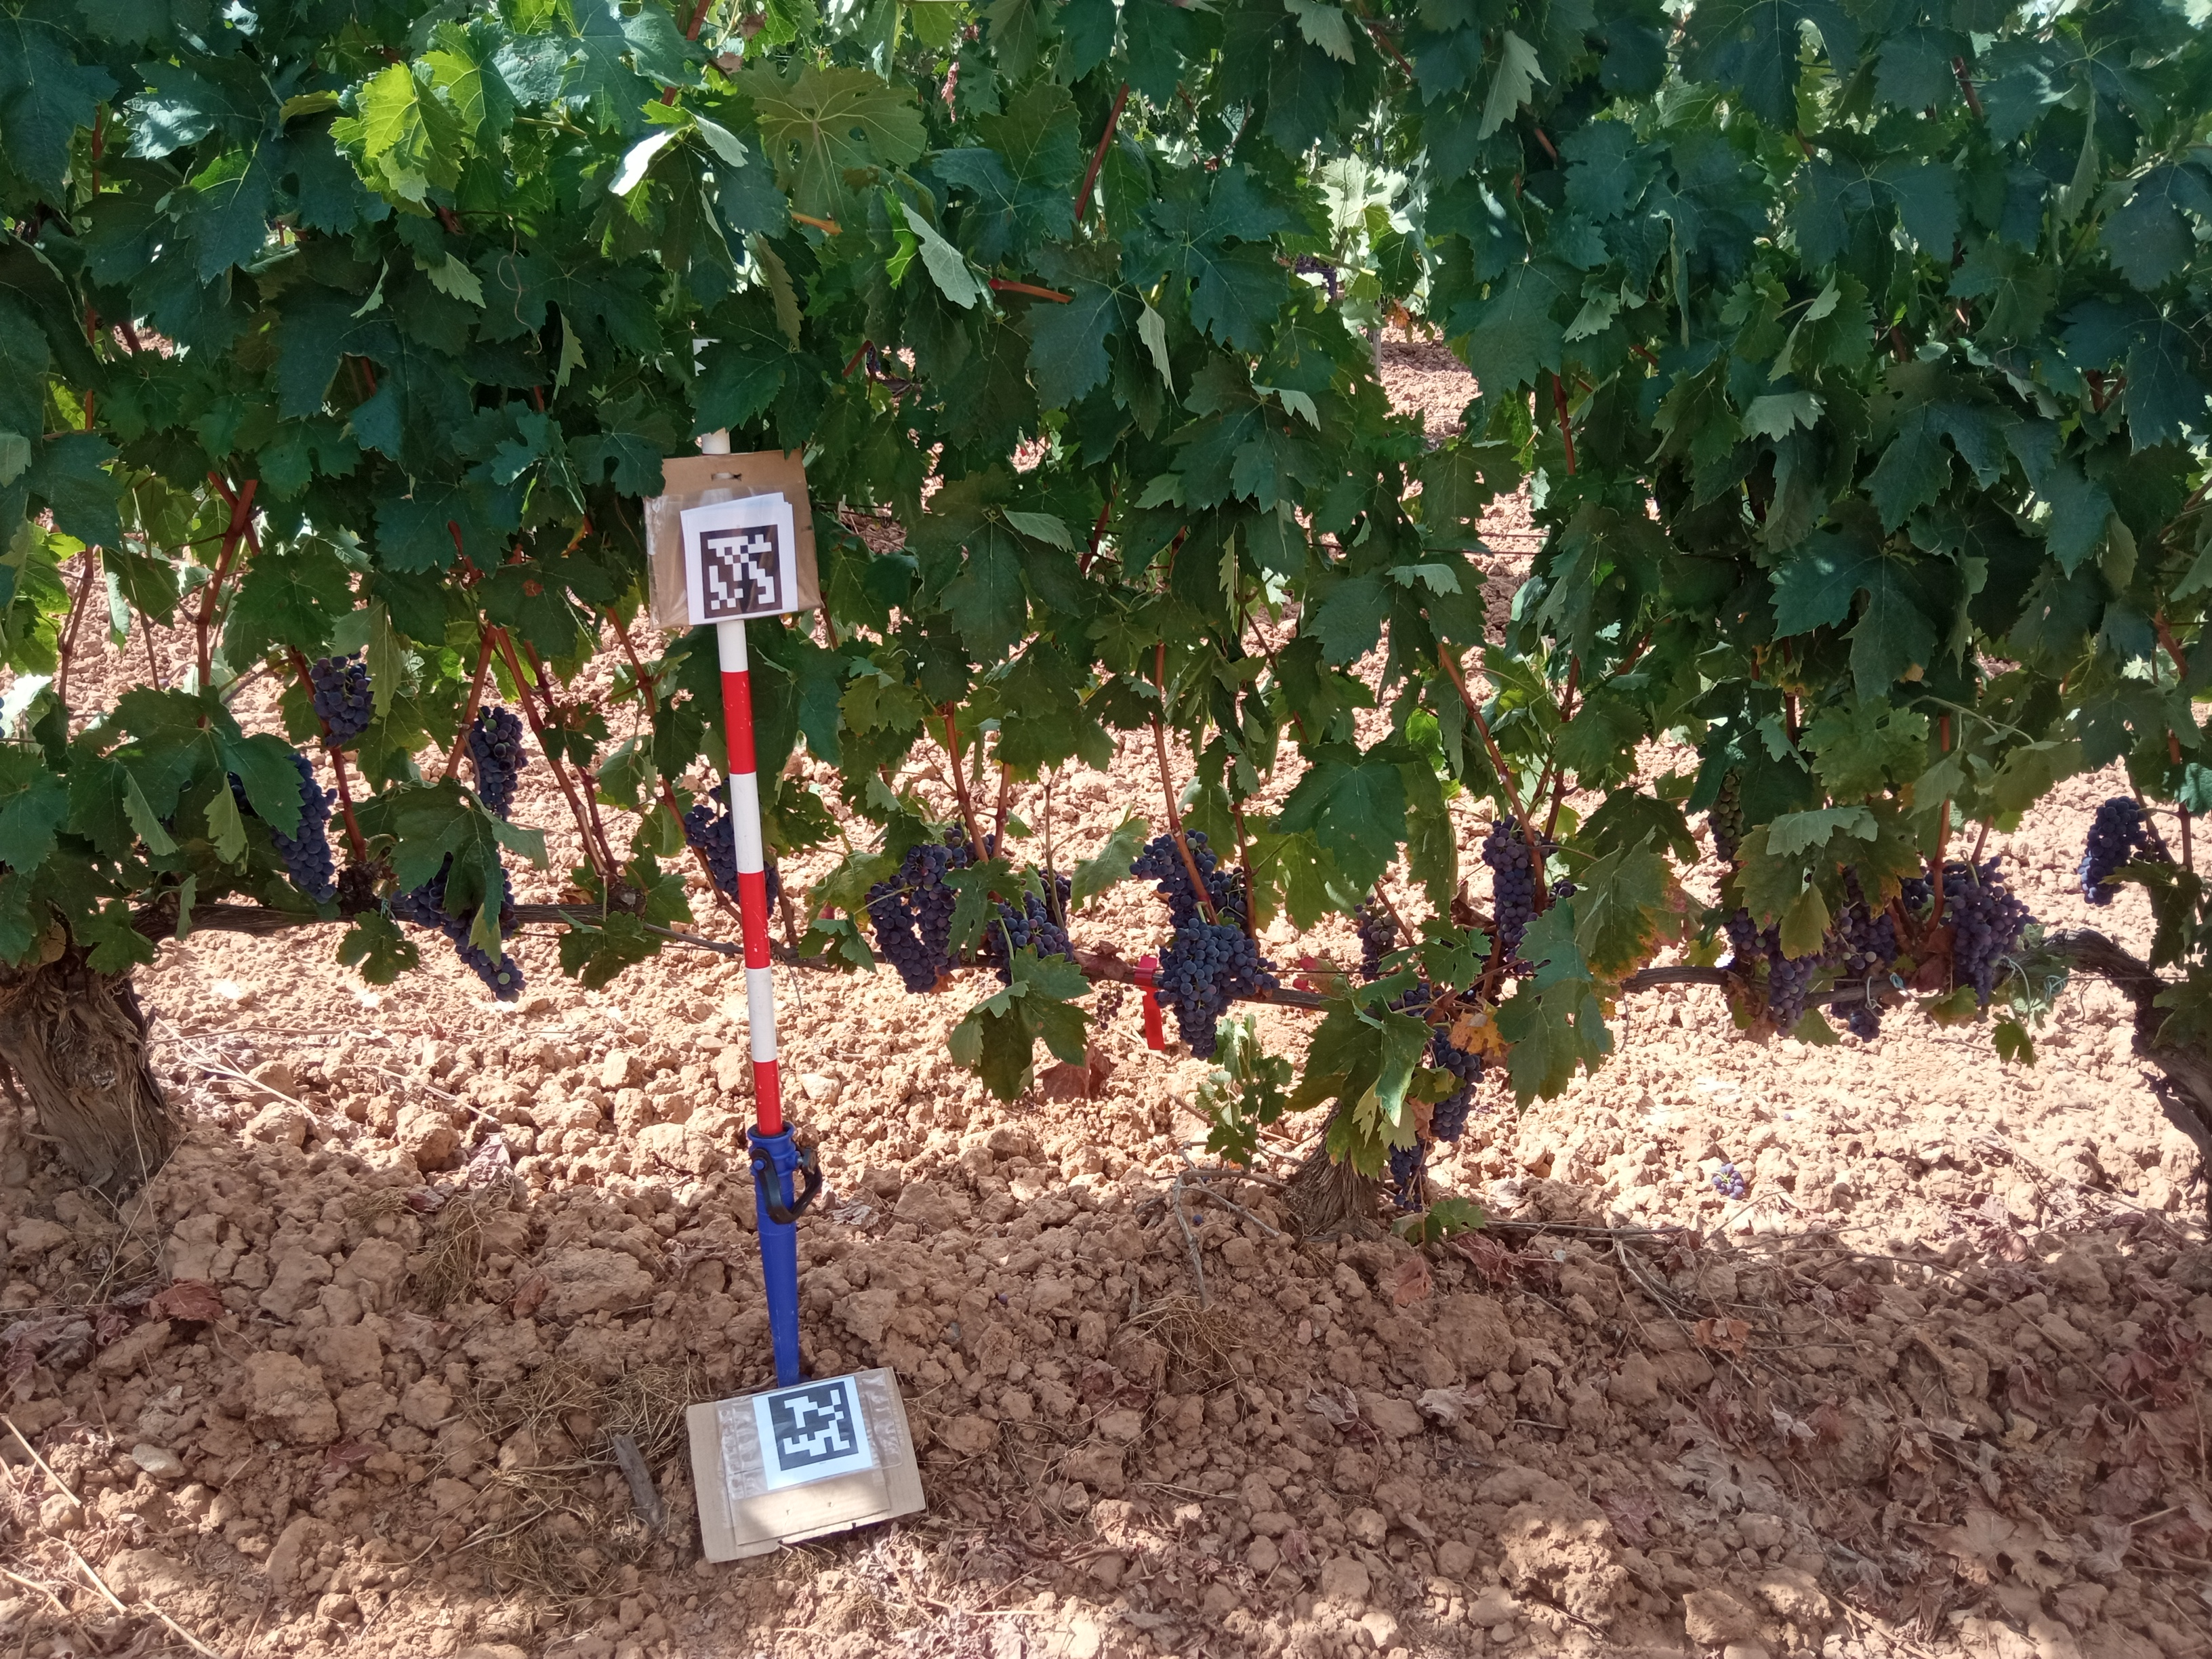grapes: (390, 852, 524, 1002), (1949, 880, 2036, 1007), (268, 753, 338, 904), (1155, 918, 1228, 1060), (1482, 817, 1555, 948), (899, 845, 968, 978), (864, 877, 939, 993), (1130, 829, 1216, 929), (988, 890, 1073, 983), (2078, 796, 2146, 908), (1430, 1030, 1484, 1143), (308, 653, 374, 746), (472, 708, 526, 819), (683, 805, 740, 906), (1224, 922, 1280, 997), (1768, 951, 1817, 1037), (1353, 896, 1397, 979), (1817, 908, 1876, 969), (1709, 775, 1745, 863), (1851, 906, 1898, 967), (1831, 1000, 1890, 1042), (1390, 1141, 1423, 1213), (1726, 911, 1778, 955), (1944, 857, 2003, 896), (944, 824, 996, 866), (1211, 868, 1245, 922), (1390, 983, 1442, 1016), (1040, 870, 1071, 924), (225, 772, 254, 817), (2134, 829, 2167, 863), (1843, 866, 1869, 906), (1507, 948, 1547, 972), (1900, 878, 1928, 910), (765, 864, 780, 918), (1832, 969, 1865, 992), (1548, 882, 1576, 897)
